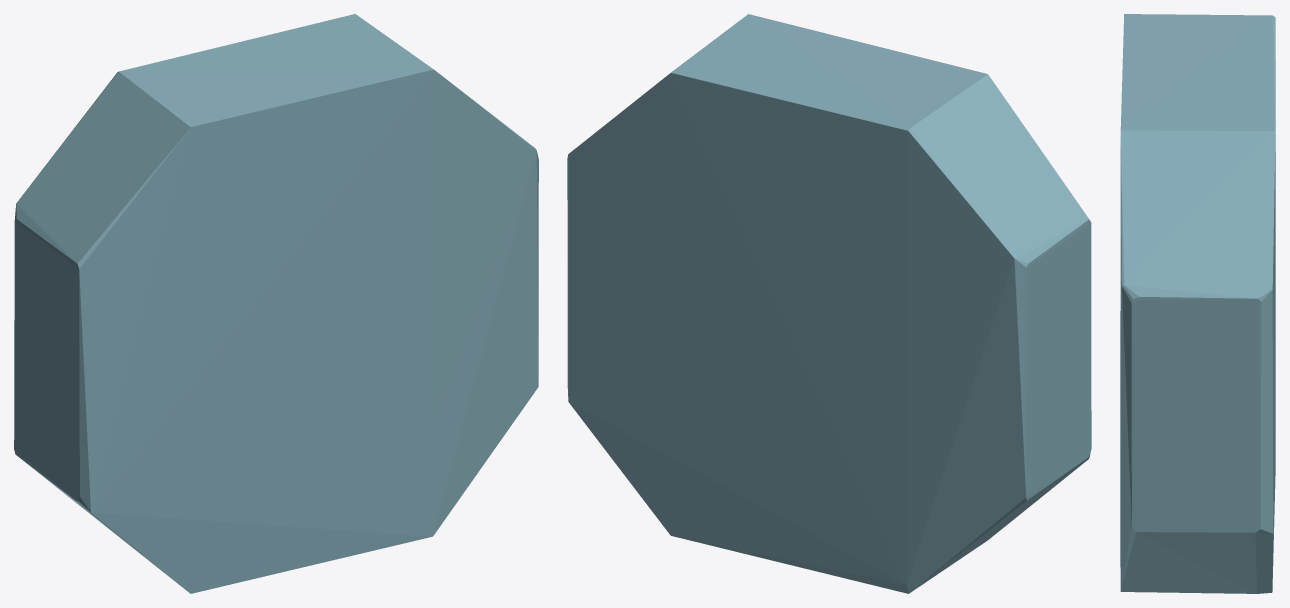
The model's file is hvac_vent_system_center_a01.glb.
3 renders of one model, left to right at view 1: azimuth 30°, elevation 25°; view 2: azimuth 150°, elevation 25°; view 3: azimuth 270°, elevation 25°, orthographic.
Parts seen in each view (by area): view 1: geometry_0; view 2: geometry_0; view 3: geometry_0.
Boxes of the visible parts, box(x1,y1,x2,y2) form: geometry_0: box(14, 14, 538, 593); geometry_0: box(567, 14, 1091, 593); geometry_0: box(1120, 14, 1275, 593).
Bounding box in the file's own units: 0.48 × 0.4661 × 0.1421.
